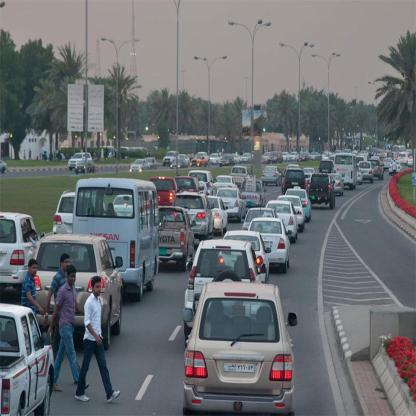face: (69, 274, 77, 286), (63, 260, 71, 272), (95, 284, 102, 296), (31, 265, 38, 277), (32, 233, 35, 239)
